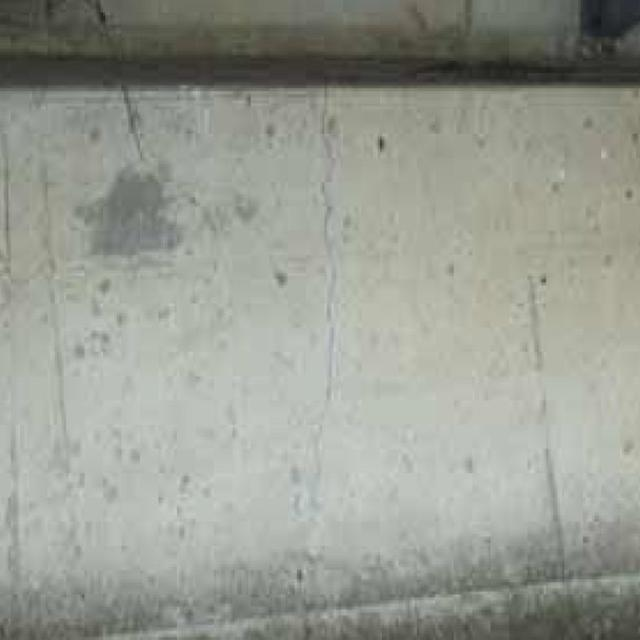crack: (307, 83, 353, 564)
